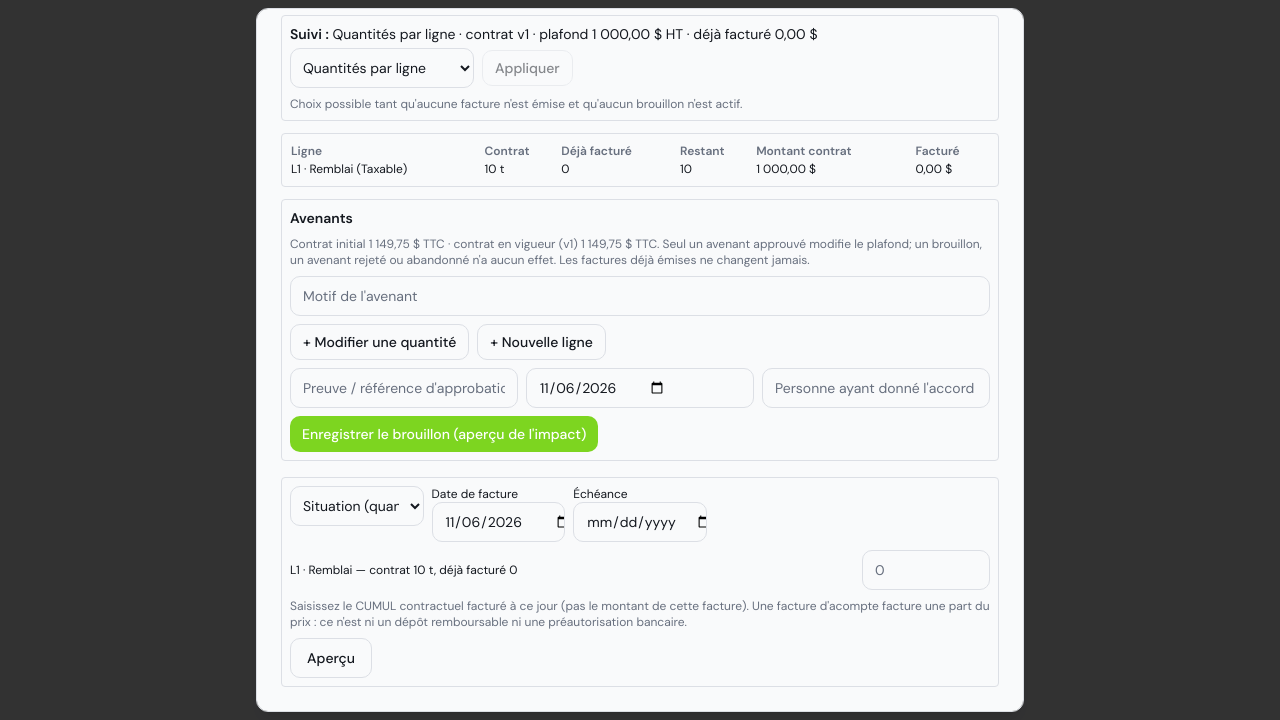
FIN-09B2 — quantités par ligne (UI simulée) › envoie les cumuls par ligne normalisés et affiche le détail de la situation
This screenshot has width=1280, height=720.
(page scrolled)
Type "2,5" into the field named "Cumul réalisé L1" at (926, 570), box [862,550,990,590]
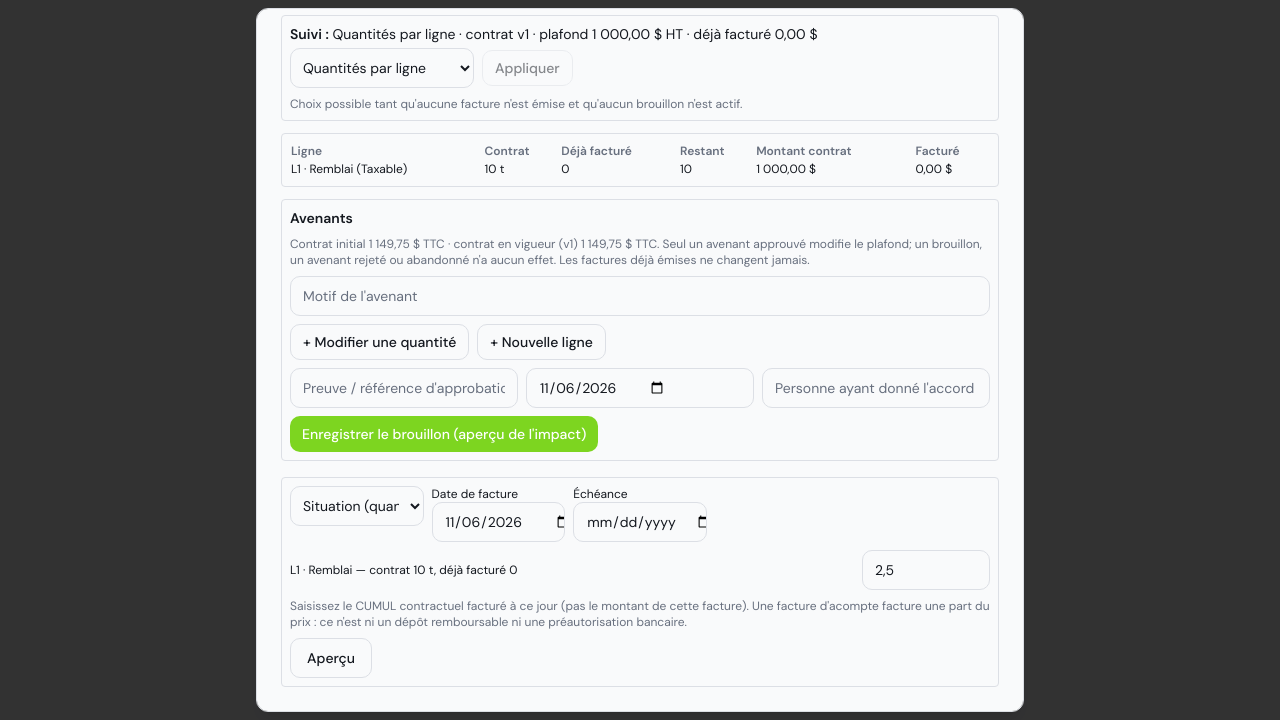
Click the button "Aperçu" at (331, 658), box [290,638,372,678]
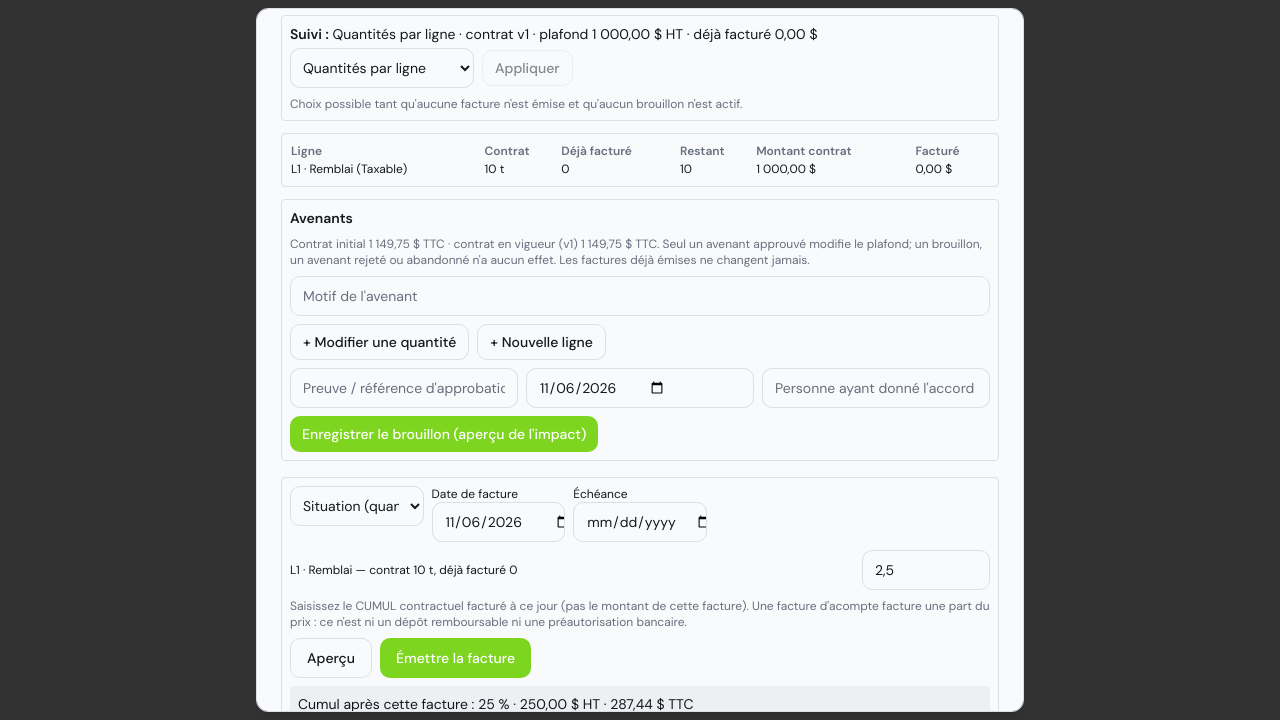
Now the button "Émettre la facture" is shown, box [380,638,531,678]
Replace the text in the field named "Cumul réalisé L1" with "3" at (926, 570), box [862,550,990,590]
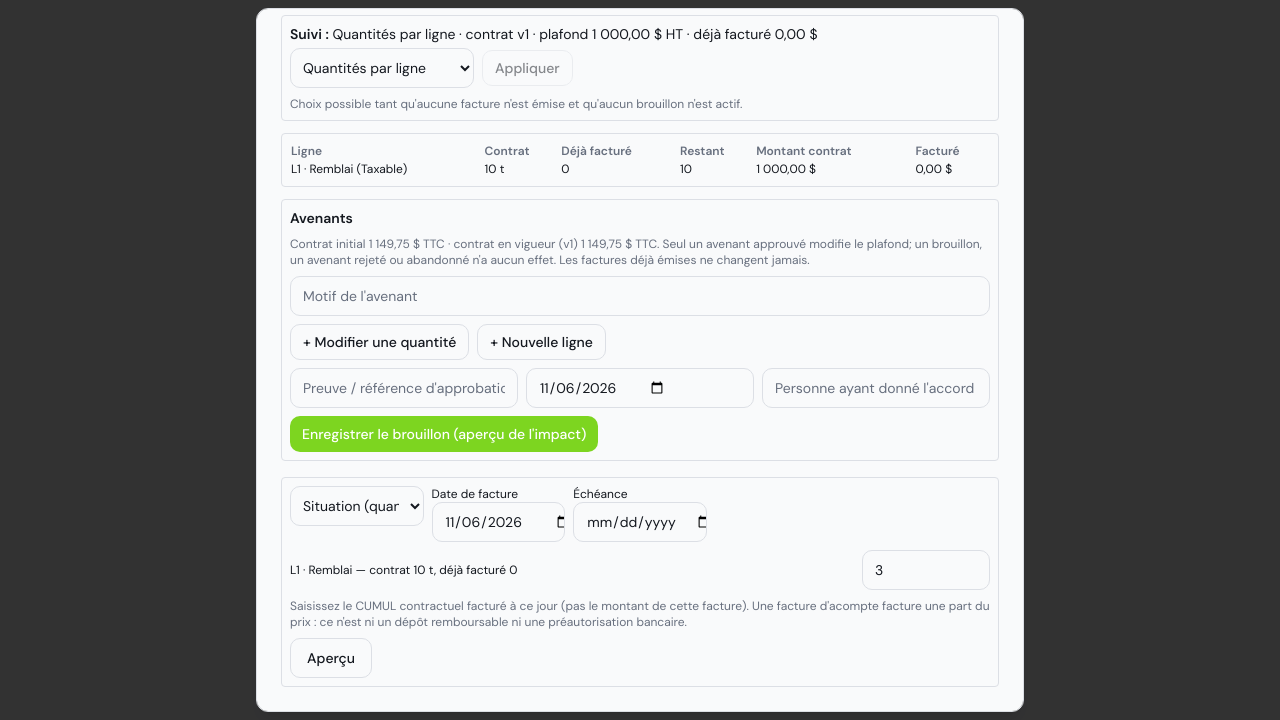
Now the button "Émettre la facture" is gone
